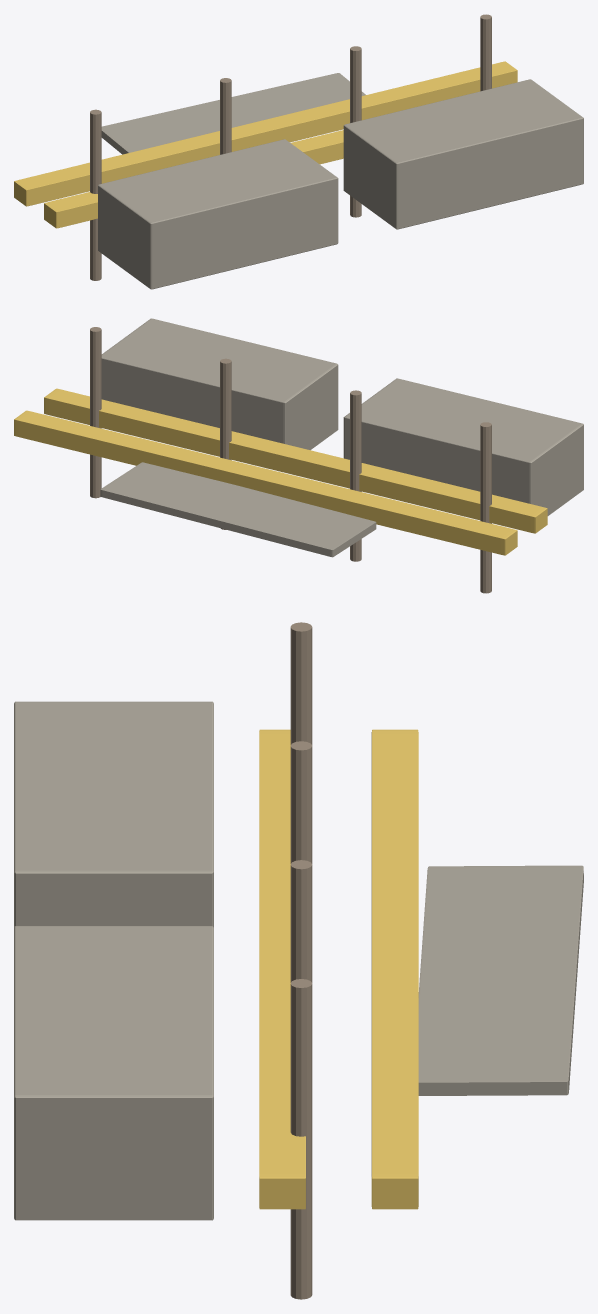
File: dz_blender_quarantine_barricade.glb
3 renders of one model, top to bottom at view 1: azimuth 30°, elevation 25°; view 2: azimuth 150°, elevation 25°; view 3: azimuth 270°, elevation 25°, orthographic. The views are drawn at different scales.
Parts seen in each view (by area): view 1: bloc beton gauche, bloc beton droit, rail jaune haut, panneau quarantaine sale, rail jaune bas, poteau rouille, poteau rouille.002, poteau rouille.003, poteau rouille.001; view 2: bloc beton droit, bloc beton gauche, rail jaune haut, rail jaune bas, panneau quarantaine sale, poteau rouille, poteau rouille.003, poteau rouille.001, poteau rouille.002; view 3: bloc beton droit, bloc beton gauche, panneau quarantaine sale, rail jaune haut, rail jaune bas, poteau rouille.003, poteau rouille, poteau rouille.001, poteau rouille.002.
Boxes of the visible parts, <box> form: bloc beton gauche: <box>98,139,338,289</box>; bloc beton droit: <box>343,79,583,229</box>; rail jaune haut: <box>14,61,517,206</box>; panneau quarantaine sale: <box>101,73,365,154</box>; rail jaune bas: <box>44,130,343,228</box>; poteau rouille: <box>90,109,101,280</box>; poteau rouille.002: <box>350,46,361,217</box>; poteau rouille.003: <box>480,14,491,91</box>; poteau rouille.001: <box>220,78,231,154</box>; bloc beton droit: <box>101,318,338,450</box>; bloc beton gauche: <box>343,378,583,515</box>; rail jaune haut: <box>14,410,517,555</box>; rail jaune bas: <box>44,388,547,533</box>; panneau quarantaine sale: <box>100,462,376,557</box>; poteau rouille: <box>480,422,491,593</box>; poteau rouille.003: <box>90,327,101,498</box>; poteau rouille.001: <box>350,390,361,561</box>; poteau rouille.002: <box>220,358,231,529</box>; bloc beton droit: <box>14,926,213,1220</box>; bloc beton gauche: <box>14,701,213,927</box>; panneau quarantaine sale: <box>418,865,583,1095</box>; rail jaune haut: <box>371,729,418,1209</box>; rail jaune bas: <box>259,729,305,1209</box>; poteau rouille.003: <box>290,979,312,1299</box>; poteau rouille: <box>290,622,312,745</box>; poteau rouille.001: <box>290,741,312,863</box>; poteau rouille.002: <box>290,860,312,982</box>.
Bounding box in the file's own units: 3.4 × 1.1 × 1.82.
